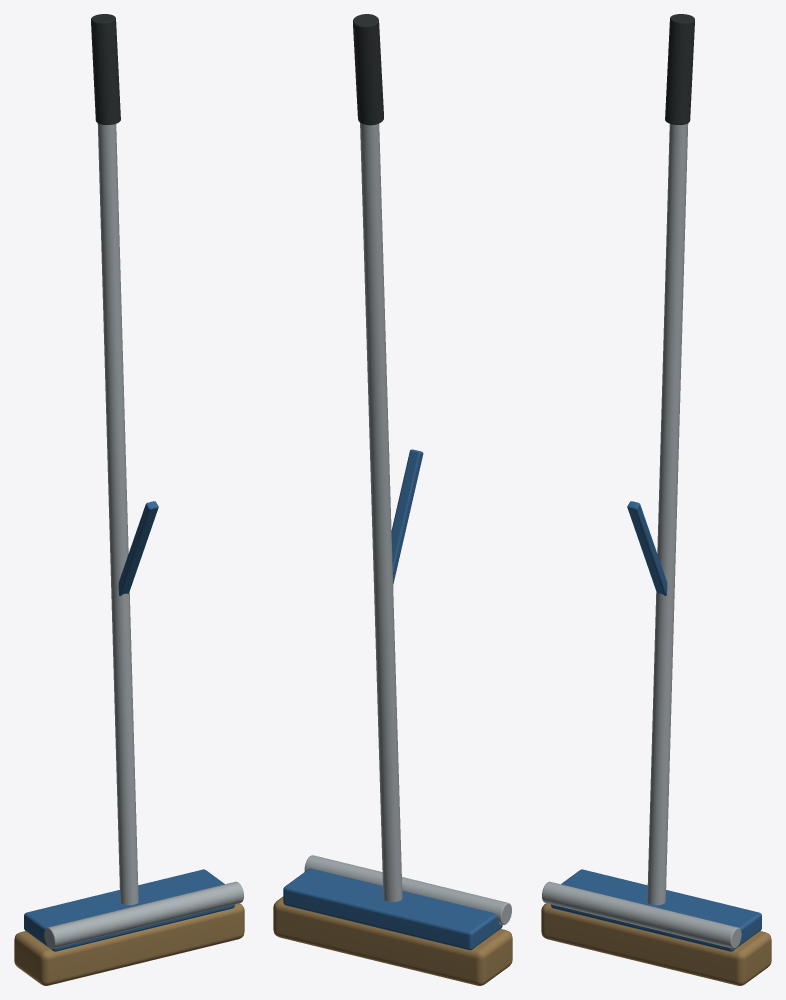
The model's file is sponge-mop.glb.
3 renders of one model, left to right at view 1: azimuth 30°, elevation 25°; view 2: azimuth 150°, elevation 25°; view 3: azimuth 330°, elevation 25°, orthographic. The views are drawn at different scales.
Visible parts, largest first — view 1: Mop handle, Wide absorbent sponge, Mop head clamp, Squeeze roller, Rubber hand grip, Squeeze control lever; view 2: Mop handle, Wide absorbent sponge, Mop head clamp, Rubber hand grip, Squeeze roller, Squeeze control lever; view 3: Mop handle, Wide absorbent sponge, Mop head clamp, Squeeze roller, Rubber hand grip, Squeeze control lever.
Part boxes in pixels (bbox=[...]): Mop handle: bbox=[97, 123, 138, 905]; Wide absorbent sponge: bbox=[14, 903, 244, 985]; Mop head clamp: bbox=[24, 869, 234, 951]; Squeeze roller: bbox=[44, 881, 243, 948]; Rubber hand grip: bbox=[91, 14, 120, 124]; Squeeze control lever: bbox=[118, 501, 158, 595]; Mop handle: bbox=[360, 122, 402, 902]; Wide absorbent sponge: bbox=[273, 896, 512, 985]; Mop head clamp: bbox=[283, 868, 502, 950]; Rubber hand grip: bbox=[353, 14, 383, 125]; Squeeze roller: bbox=[304, 855, 511, 924]; Squeeze control lever: bbox=[391, 449, 423, 585]; Mop handle: bbox=[647, 123, 688, 905]; Wide absorbent sponge: bbox=[541, 903, 771, 985]; Mop head clamp: bbox=[551, 869, 761, 951]; Squeeze roller: bbox=[542, 881, 741, 948]; Rubber hand grip: bbox=[665, 14, 694, 124]; Squeeze control lever: bbox=[627, 501, 667, 595].
Bounding box in the file's own units: 0.28 × 1.2 × 0.1359.
Materials: 4 (4 with a texture image).
